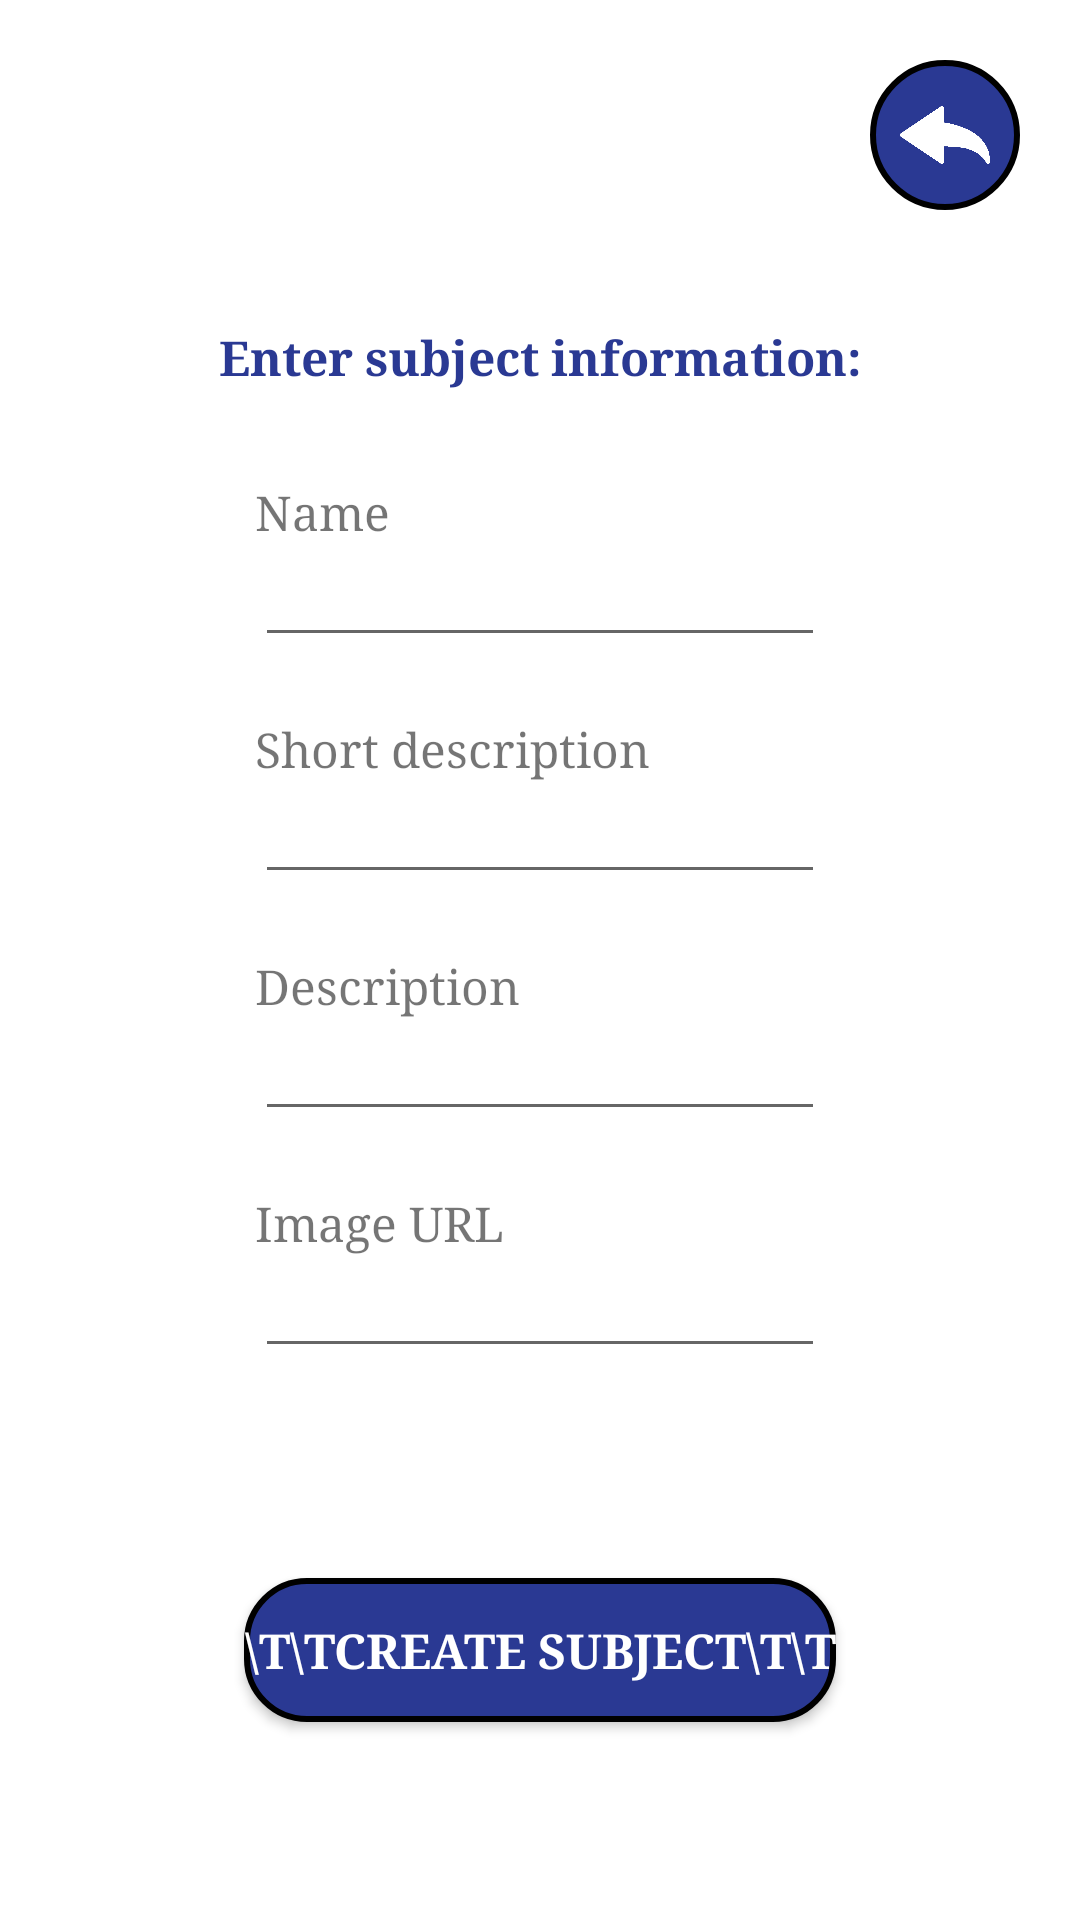

Icons on this 1080 × 1920 Android screen, each with the point to tap as point (x, y):
arrow: point (945, 135)
